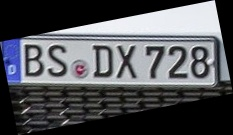character: (90, 42, 114, 78), (114, 43, 137, 78), (166, 44, 189, 78), (46, 43, 68, 76), (23, 43, 44, 77), (189, 45, 210, 79), (145, 44, 164, 79)
